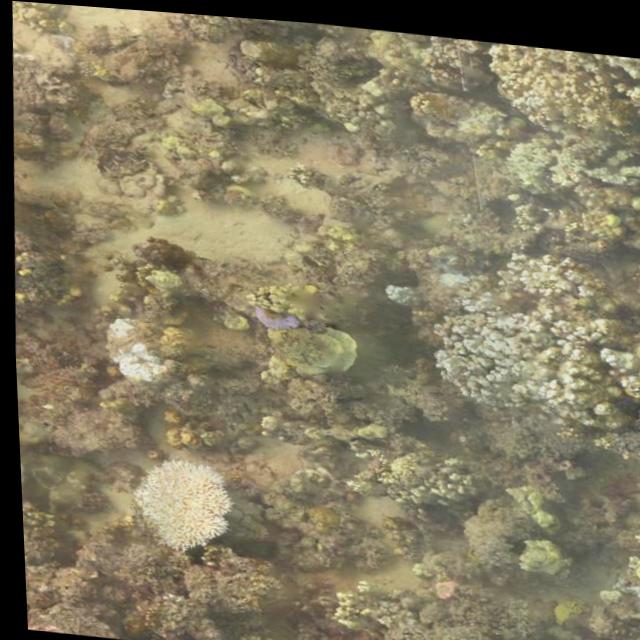Bleached Coral: (444, 302, 579, 405), (125, 449, 238, 560), (498, 118, 640, 190), (500, 237, 587, 297), (376, 270, 423, 313)
